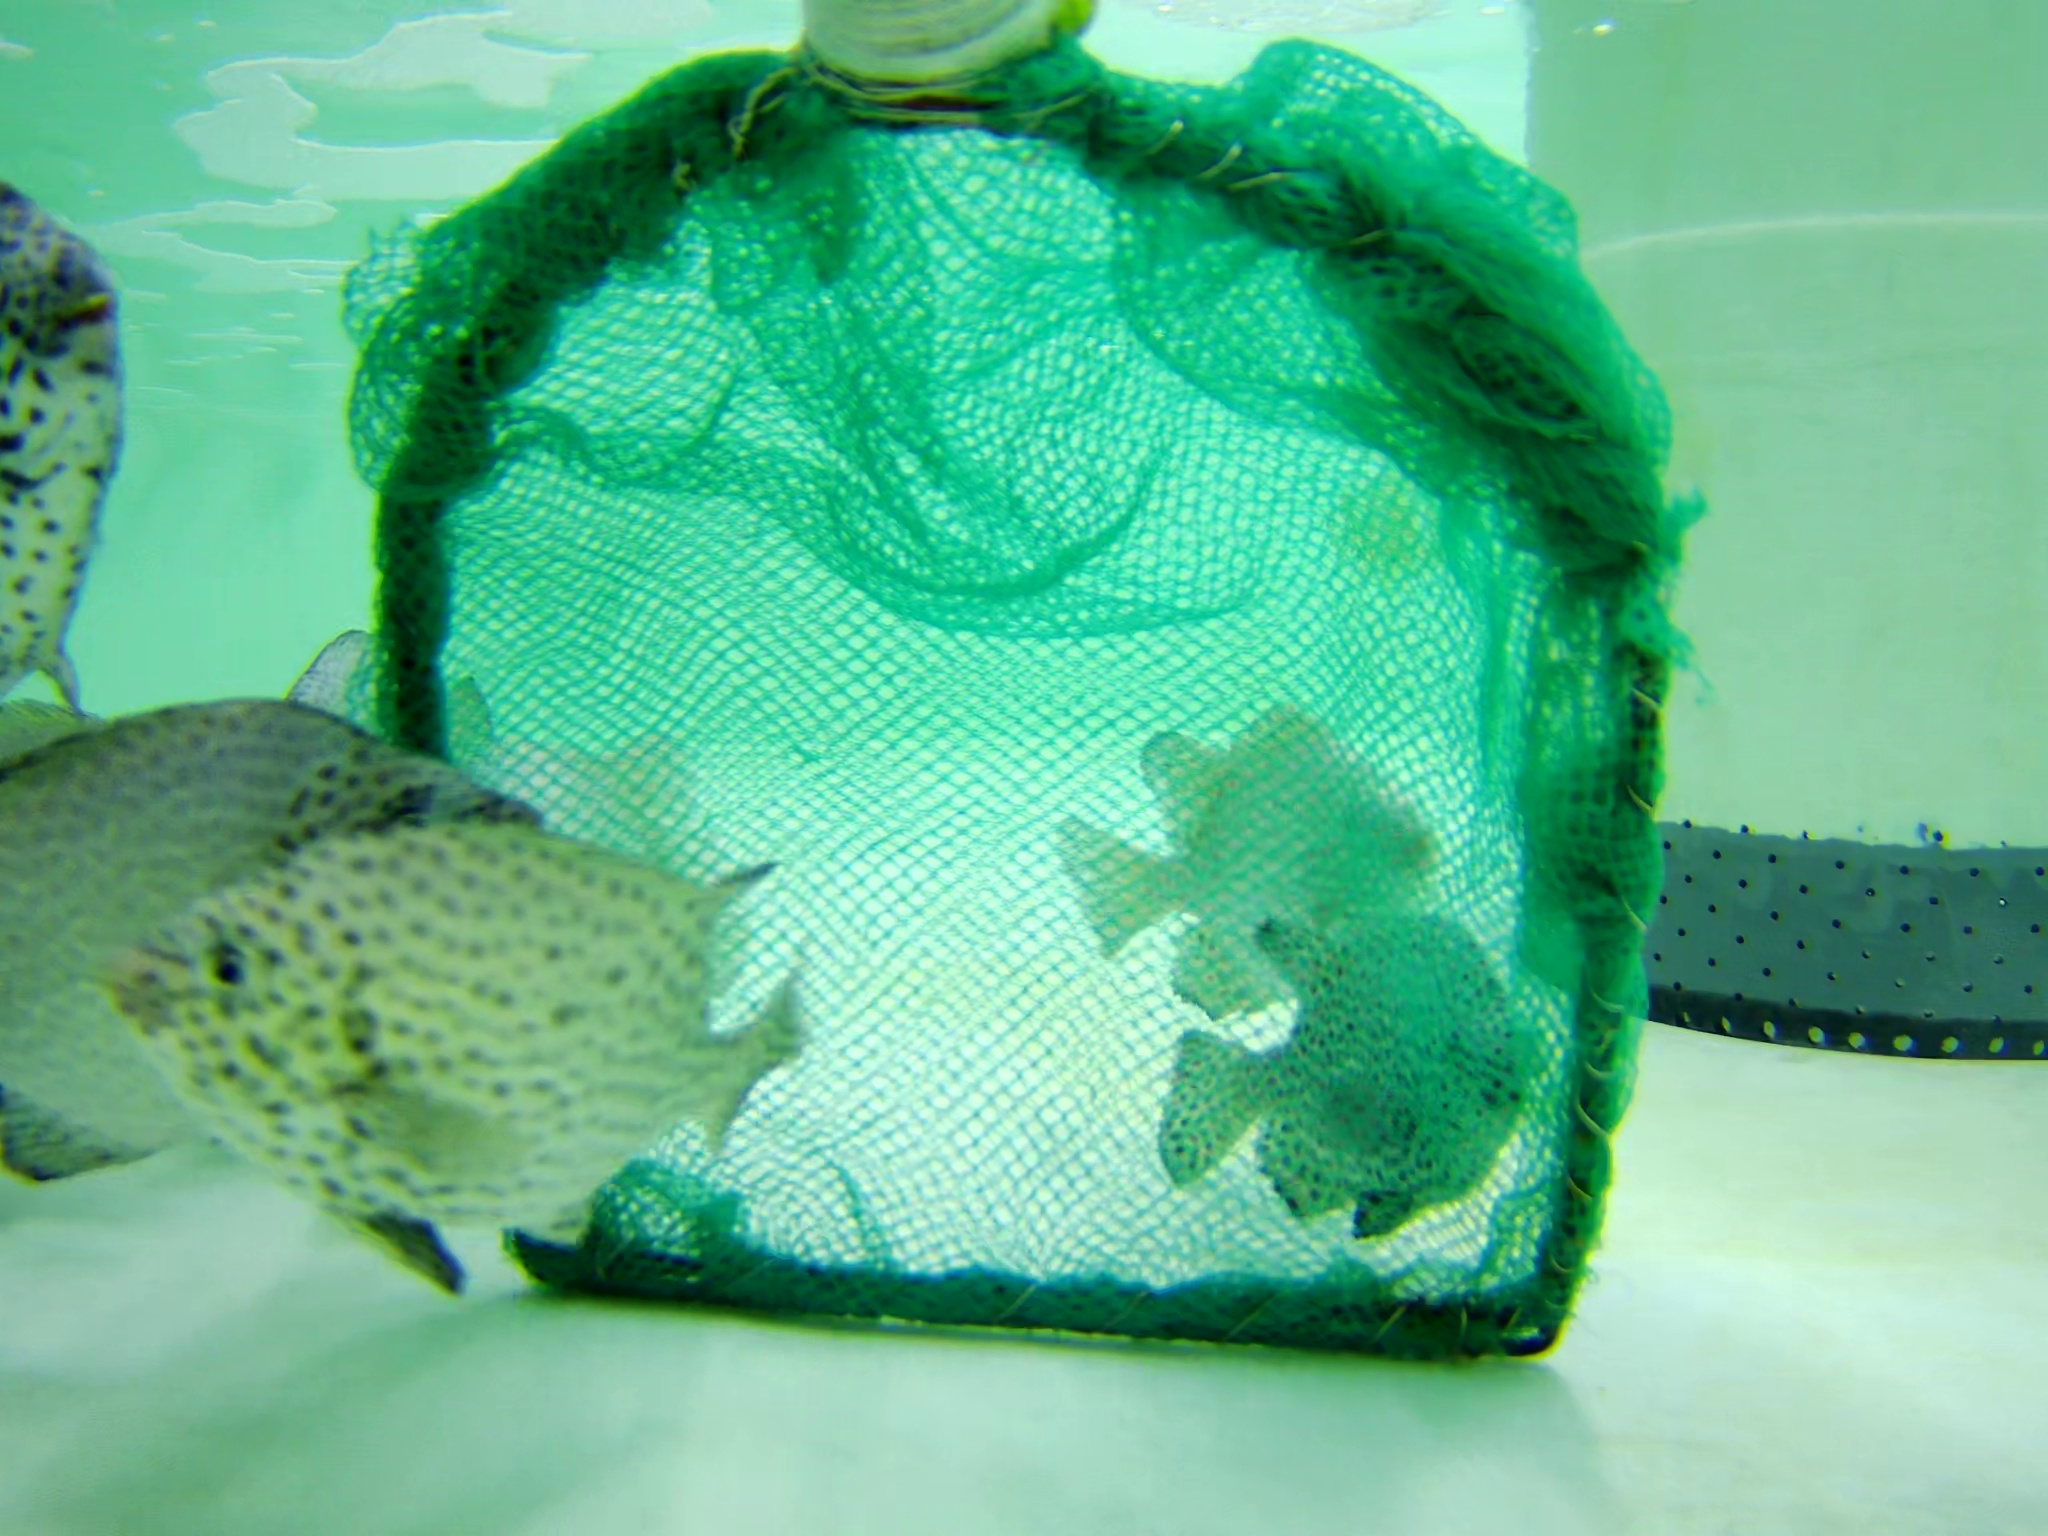fish: (100, 828, 806, 1276), (2, 700, 571, 1187), (1159, 912, 1538, 1246), (1029, 694, 1450, 979), (2, 200, 132, 724)
